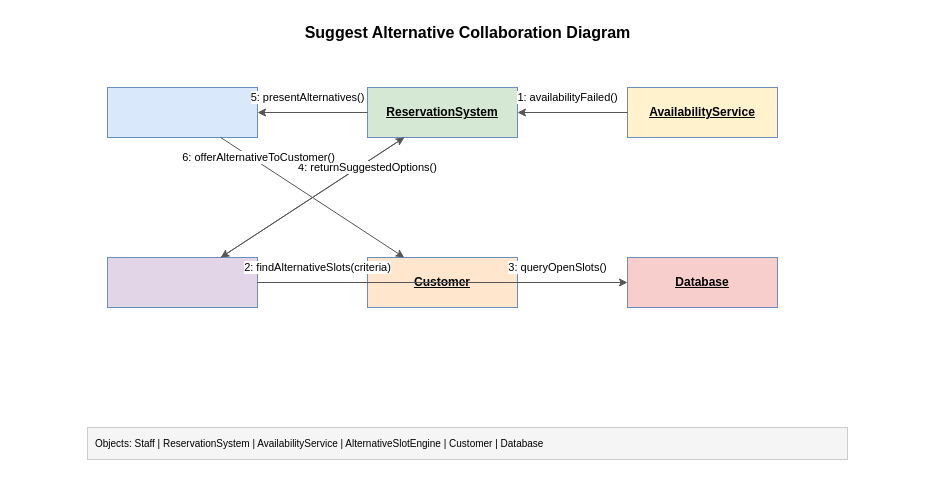
Some shapes in this 934 by 477 pixel diagram are drawn without their labels. Each missing label, with the box of its shape:
AlternativeSlotEngine: (106, 256, 258, 308)
Staff: (106, 86, 258, 138)
